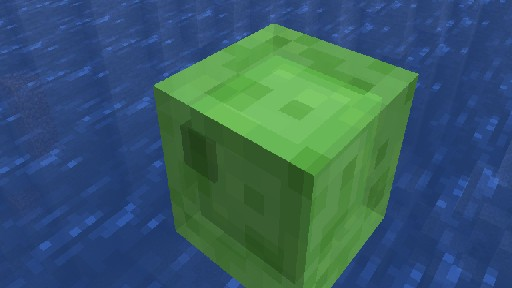slime: (152, 22, 419, 288)
